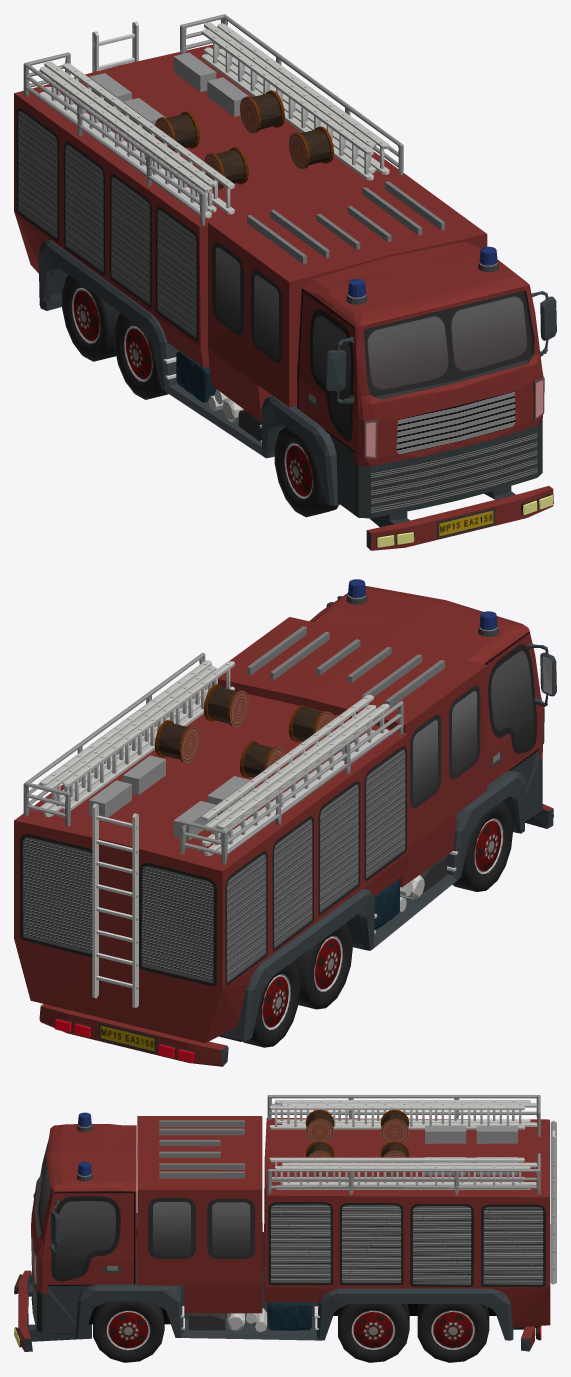
File: Fire_Truck_002.FBX
3 renders of one model, top to bottom at view 1: azimuth 30°, elevation 25°; view 2: azimuth 150°, elevation 25°; view 3: azimuth 270°, elevation 25°, orthographic. The views are drawn at different scales.
Parts seen in each view (by area): view 1: Fire_Truck_002, Fire_Truck_002_W_RR2, Fire_Truck_002_W_FR, Fire_Truck_002_W_RR1; view 2: Fire_Truck_002, Fire_Truck_002_W_RR1, Fire_Truck_002_W_FR, Fire_Truck_002_W_RR2; view 3: Fire_Truck_002, Fire_Truck_002_W_FL, Fire_Truck_002_W_RL2, Fire_Truck_002_W_RL1.
Part boxes in pixels (bbox=[...]): Fire_Truck_002: bbox=[14, 14, 556, 550]; Fire_Truck_002_W_RR2: bbox=[62, 275, 120, 361]; Fire_Truck_002_W_FR: bbox=[274, 426, 338, 517]; Fire_Truck_002_W_RR1: bbox=[114, 313, 168, 399]; Fire_Truck_002: bbox=[14, 579, 556, 1066]; Fire_Truck_002_W_RR1: bbox=[294, 923, 352, 1009]; Fire_Truck_002_W_FR: bbox=[452, 802, 512, 891]; Fire_Truck_002_W_RR2: bbox=[219, 961, 300, 1047]; Fire_Truck_002: bbox=[14, 1095, 556, 1351]; Fire_Truck_002_W_FL: bbox=[93, 1300, 164, 1362]; Fire_Truck_002_W_RL2: bbox=[417, 1304, 489, 1362]; Fire_Truck_002_W_RL1: bbox=[338, 1304, 409, 1362].
Size of the model in its own units: 102 by 110 by 272.
